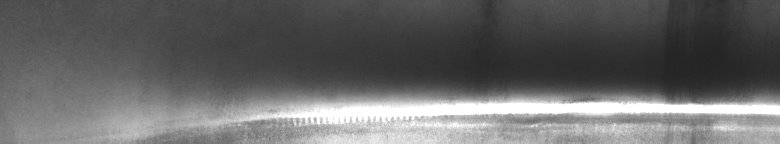ke: (155, 76, 776, 136)
